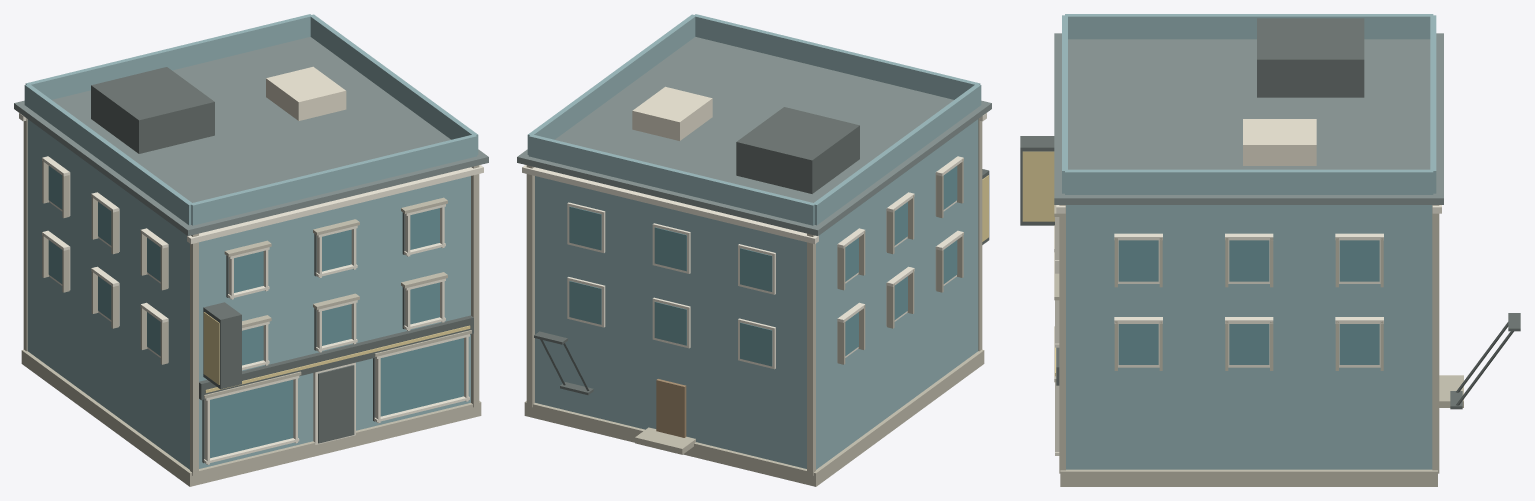
The picture shows the model from 3 angles, left to right: view 1: azimuth 30°, elevation 25°; view 2: azimuth 150°, elevation 25°; view 3: azimuth 270°, elevation 25°; orthographic projection. The views are drawn at different scales.
Bounding box in the file's own units: 12.7 × 11.83 × 16.3.
